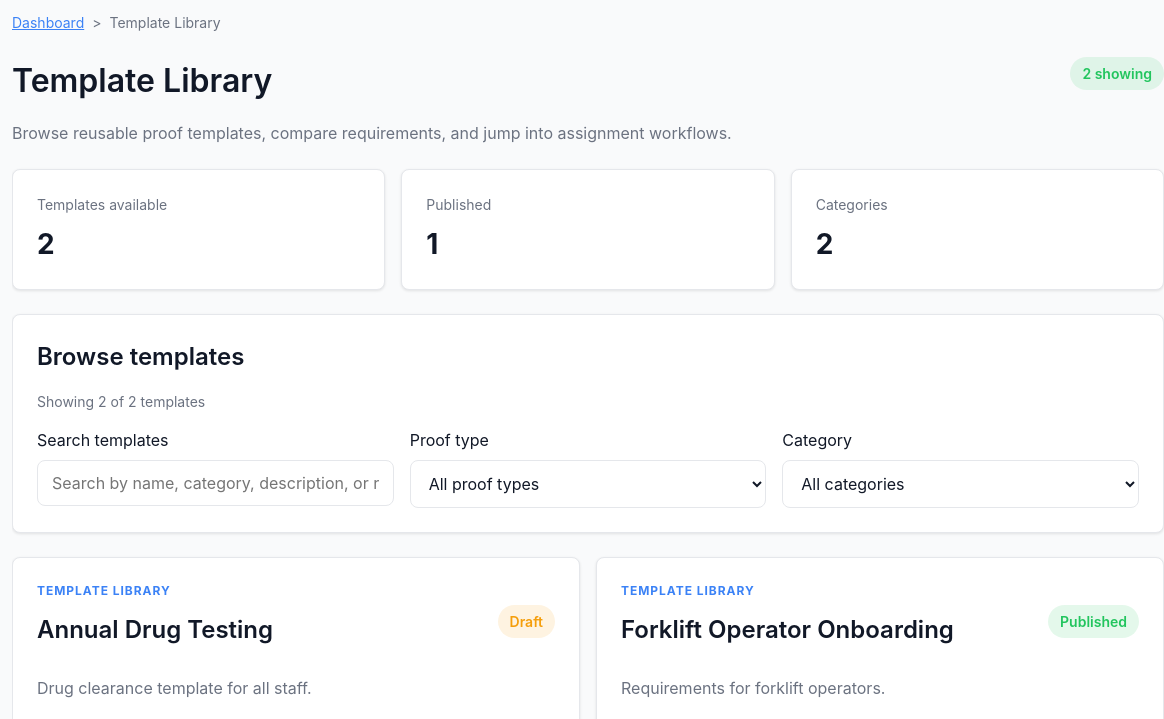
Test: TemplateLibraryPage › shows empty state when no templates match filters
The image size is (1164, 719).
Check: the heading "Forklift Operator Onboarding" is shown, box [621,612,954,648]
Type "nonexistent template xyz" into the field with placeholder "Search by name, category, description, or requirement" at (215, 483), box [37,460,394,506]
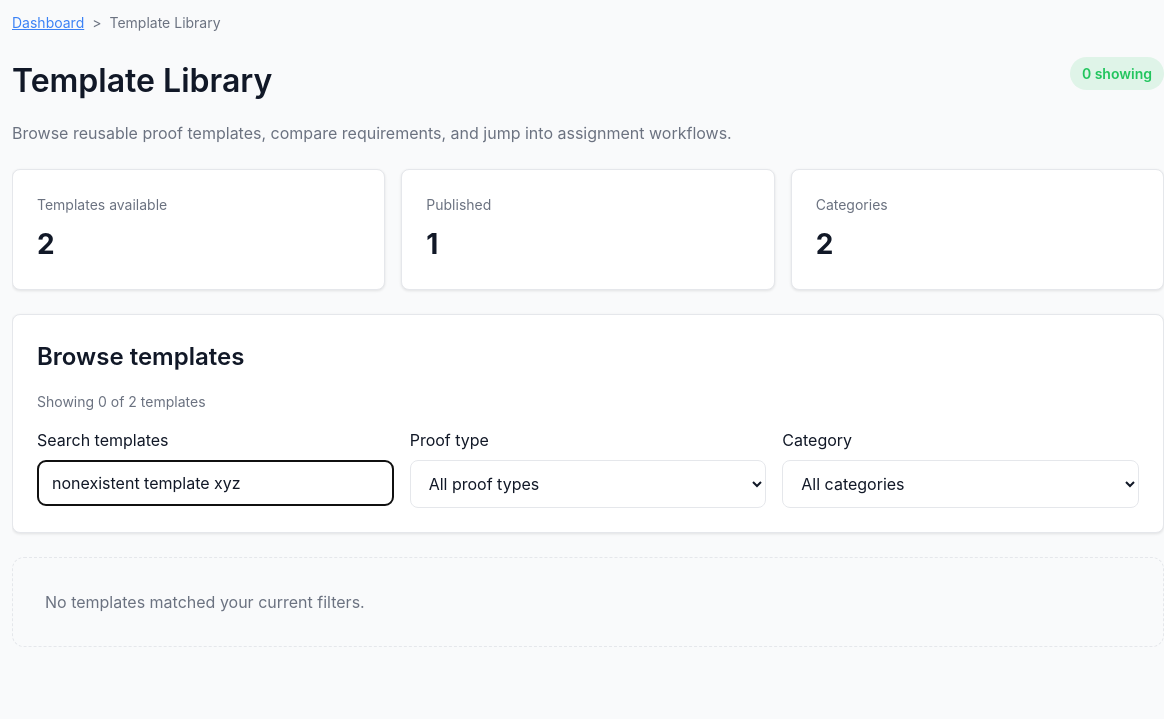
Check: the text "No templates matched your current filters." is shown, box [12,557,1163,647]
